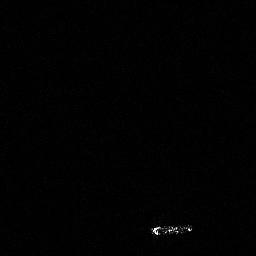ship: (147, 222, 195, 239)
